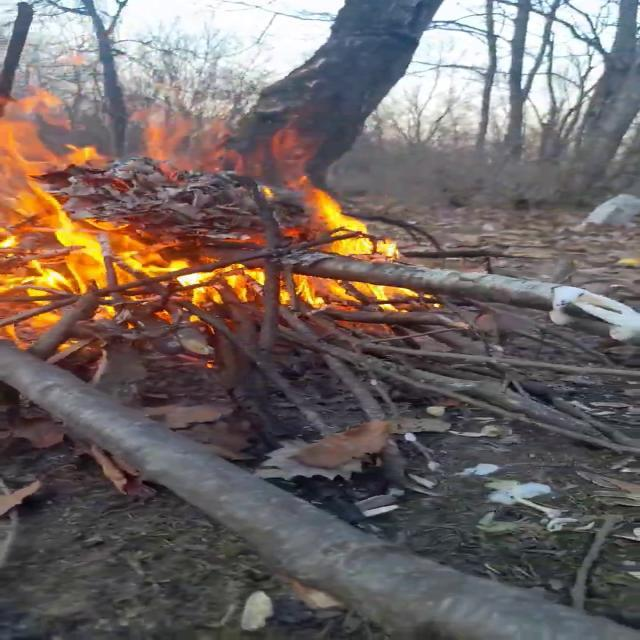Fire: (0, 86, 421, 336)
Smoke: (331, 112, 585, 238)
